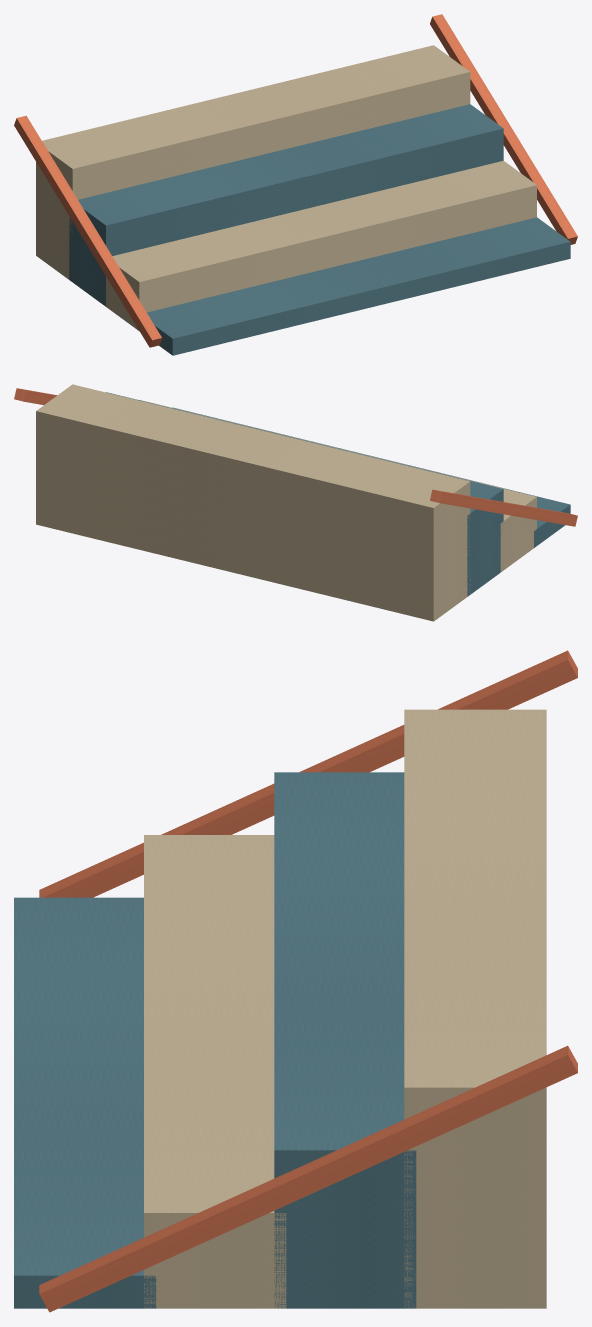
The model's file is atlas100-s041-a10.glb.
3 views of the same model, one above another, from view 1: azimuth 30°, elevation 25°; view 2: azimuth 150°, elevation 25°; view 3: azimuth 270°, elevation 25° (orthographic). The views are drawn at different scales.
Visible parts, largest first — view 1: atlas100-s041-a10:part-003, atlas100-s041-a10:part-002, atlas100-s041-a10:part-001, atlas100-s041-a10:part-000, atlas100-s041-a10:part-004, atlas100-s041-a10:part-005; view 2: atlas100-s041-a10:part-003, atlas100-s041-a10:part-002, atlas100-s041-a10:part-001, atlas100-s041-a10:part-004, atlas100-s041-a10:part-000, atlas100-s041-a10:part-005; view 3: atlas100-s041-a10:part-003, atlas100-s041-a10:part-002, atlas100-s041-a10:part-001, atlas100-s041-a10:part-000, atlas100-s041-a10:part-005, atlas100-s041-a10:part-004.
Part boxes in pixels (box(x1,y1,x2,y2)): atlas100-s041-a10:part-003: box(36, 45, 470, 279); atlas100-s041-a10:part-002: box(69, 104, 503, 306); atlas100-s041-a10:part-001: box(106, 160, 536, 330); atlas100-s041-a10:part-000: box(137, 217, 570, 355); atlas100-s041-a10:part-004: box(14, 115, 161, 347); atlas100-s041-a10:part-005: box(430, 14, 577, 244); atlas100-s041-a10:part-003: box(36, 384, 470, 621); atlas100-s041-a10:part-002: box(106, 392, 503, 596); atlas100-s041-a10:part-001: box(139, 400, 536, 572); atlas100-s041-a10:part-004: box(430, 489, 577, 526); atlas100-s041-a10:part-000: box(172, 407, 570, 547); atlas100-s041-a10:part-005: box(14, 388, 56, 404); atlas100-s041-a10:part-003: box(404, 709, 546, 1308); atlas100-s041-a10:part-002: box(274, 772, 416, 1308); atlas100-s041-a10:part-001: box(144, 835, 286, 1308); atlas100-s041-a10:part-000: box(14, 897, 156, 1308); atlas100-s041-a10:part-005: box(39, 1045, 577, 1312); atlas100-s041-a10:part-004: box(39, 650, 577, 897).
Size of the model in its own units: 2.36 by 0.7246 by 1.39.
3 materials, 3 textured.
